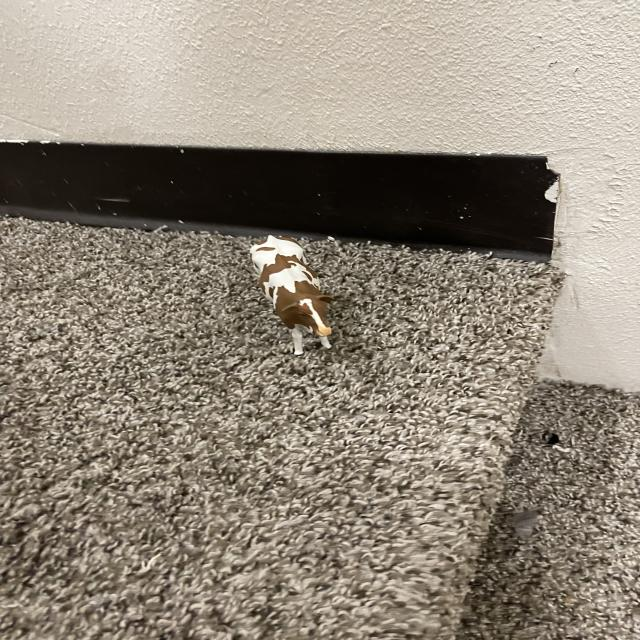cow: (235, 224, 354, 366)
